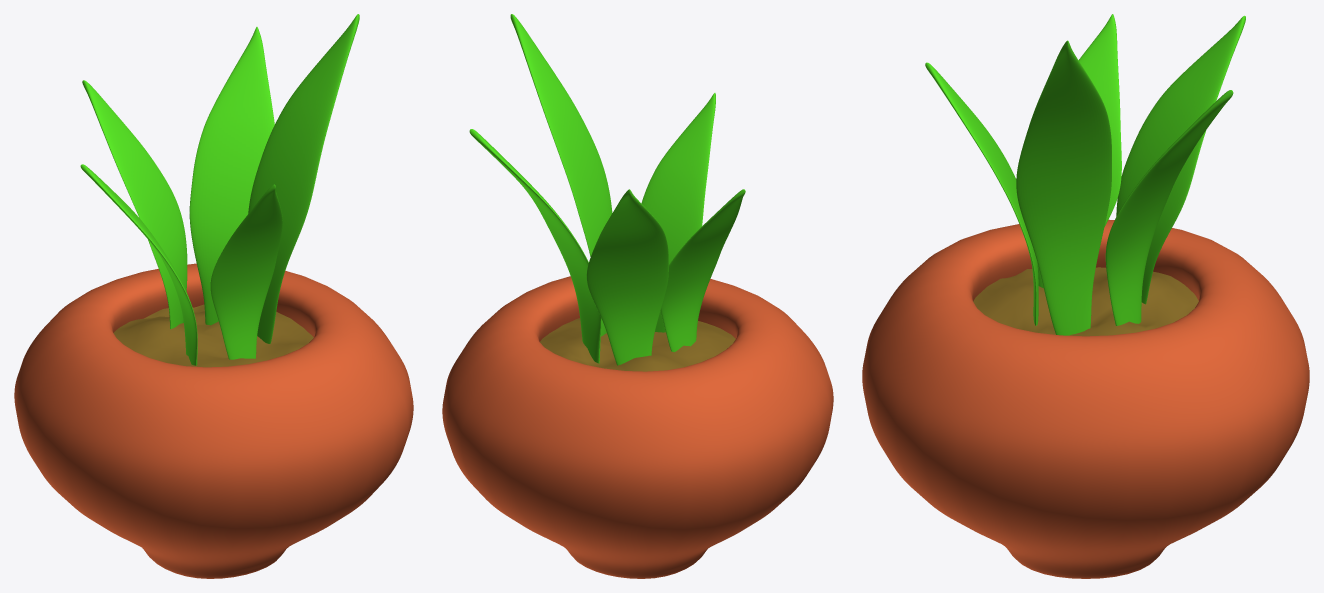
File: snake-plant.fbx
3 views of the same model, side by side, from view 1: azimuth 30°, elevation 25°; view 2: azimuth 150°, elevation 25°; view 3: azimuth 270°, elevation 25° (orthographic). The views are drawn at different scales.
Visible parts, largest first — view 1: pot, leaves, soil; view 2: pot, leaves, soil; view 3: pot, leaves, soil.
Part boxes in pixels (x1,y1,x2,y2): pot: (14,263,413,578); leaves: (80,14,359,365); soil: (113,304,313,367); pot: (442,276,833,578); leaves: (469,14,745,365); soil: (540,318,735,371); pot: (862,219,1309,578); leaves: (925,14,1245,335); soil: (973,267,1198,336).
Bounding box in the file's own units: 90 × 130 × 90.
